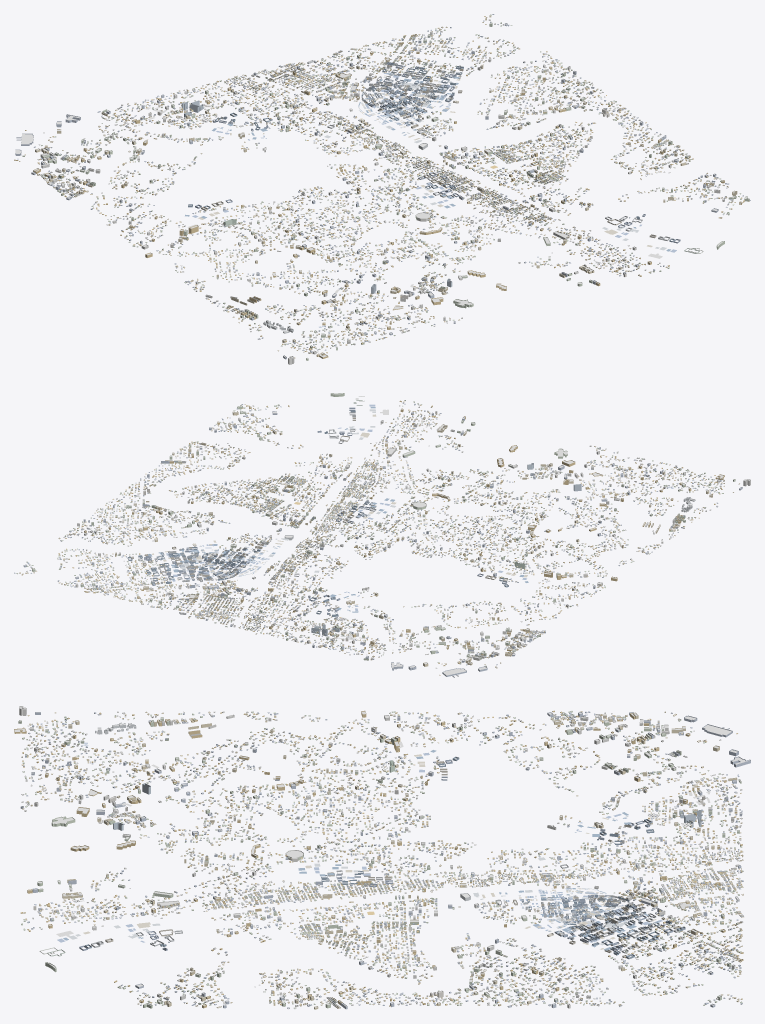
3 renders of one model, top to bottom at view 1: azimuth 30°, elevation 25°; view 2: azimuth 150°, elevation 25°; view 3: azimuth 270°, elevation 25°, orthographic. The views are drawn at different scales.
Visible parts, largest first — view 1: house, roof_zinc, apartment, factory, roof_flat; view 2: house, roof_zinc, apartment, roof_flat, factory; view 3: house, roof_zinc, apartment, roof_flat, factory, glass.
Part boxes in pixels (x1=…): house: x1=19, y1=14, x2=750, y2=358; roof_zinc: x1=17, y1=14, x2=750, y2=357; apartment: x1=14, y1=22, x2=749, y2=364; factory: x1=188, y1=62, x2=680, y2=243; roof_flat: x1=14, y1=23, x2=748, y2=359; house: x1=14, y1=400, x2=739, y2=675; roof_zinc: x1=14, y1=400, x2=739, y2=675; apartment: x1=23, y1=393, x2=750, y2=677; roof_flat: x1=24, y1=393, x2=749, y2=677; factory: x1=127, y1=407, x2=508, y2=616; house: x1=20, y1=710, x2=743, y2=1006; roof_zinc: x1=21, y1=711, x2=743, y2=1005; apartment: x1=14, y1=706, x2=750, y2=1009; roof_flat: x1=14, y1=706, x2=749, y2=1009; factory: x1=79, y1=756, x2=685, y2=959; glass: x1=47, y1=760, x2=717, y2=956.
Bounding box in the file's own units: 1.41e+08 × 1674111 × 1.48e+08.
